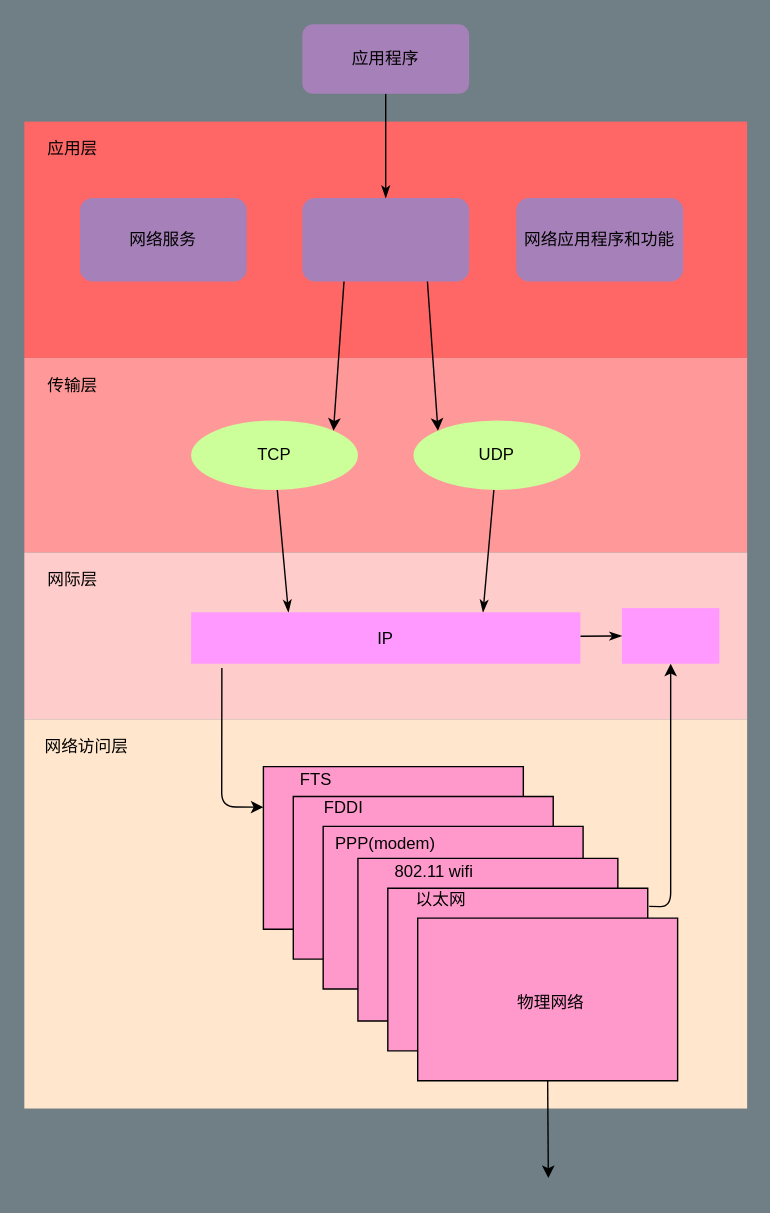
The diagram is 770 pixels wide and 1213 high, and some of its shapes have lost their labels. Here are the shapes that lost their labels. From the top down, the centre of each, then its label:
(385,239): 应用编程接口
(670,635): ARP
